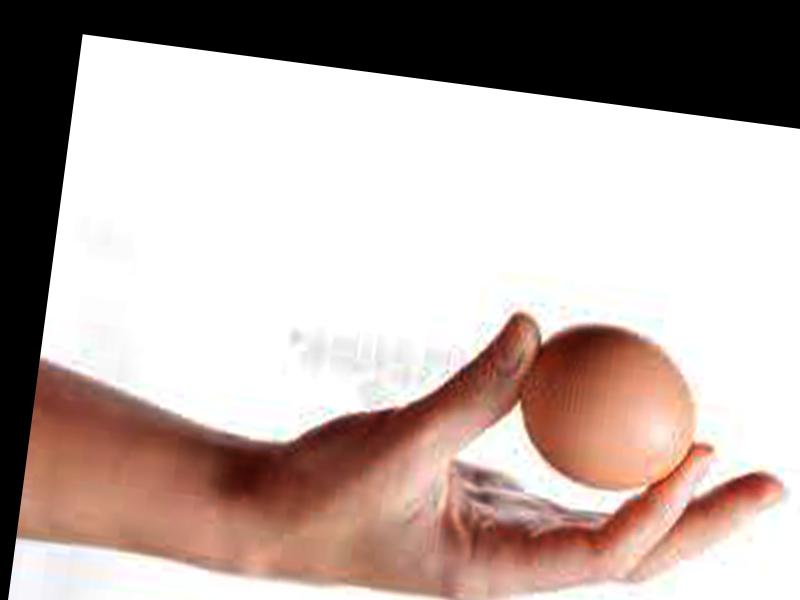Eggs: (508, 317, 704, 496)
